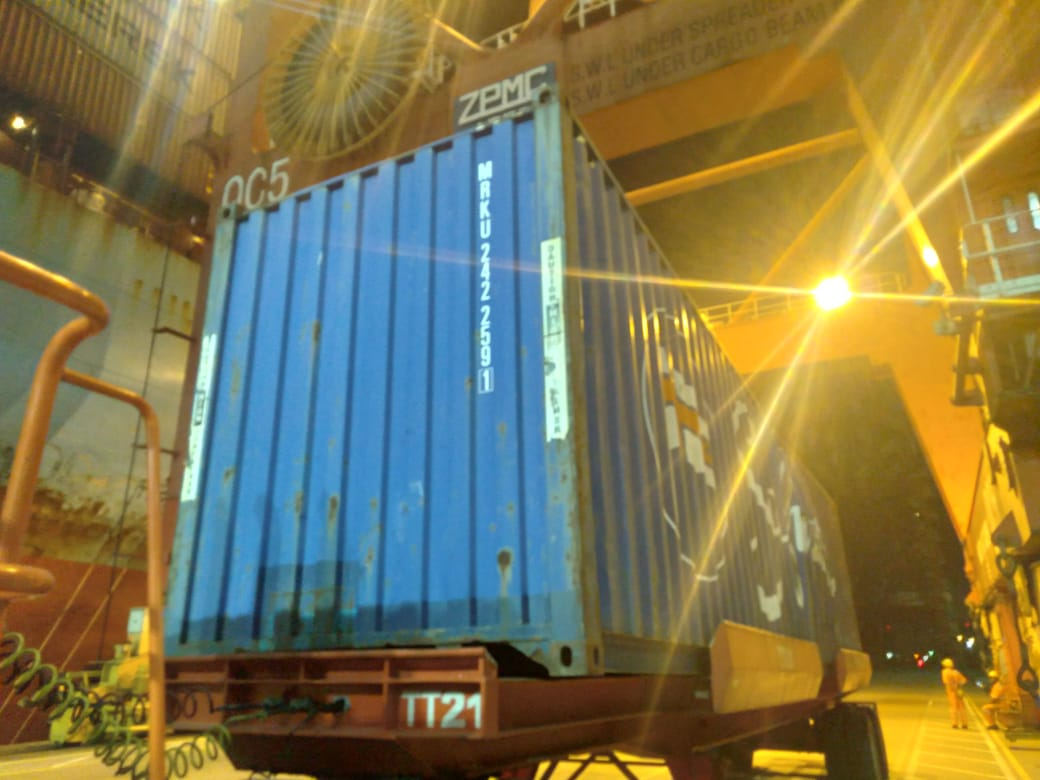rust: (277, 485, 381, 541), (486, 545, 520, 578), (309, 318, 331, 350)
